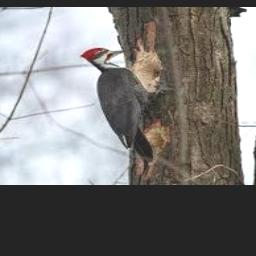Woodpecker: (80, 47, 166, 176)
